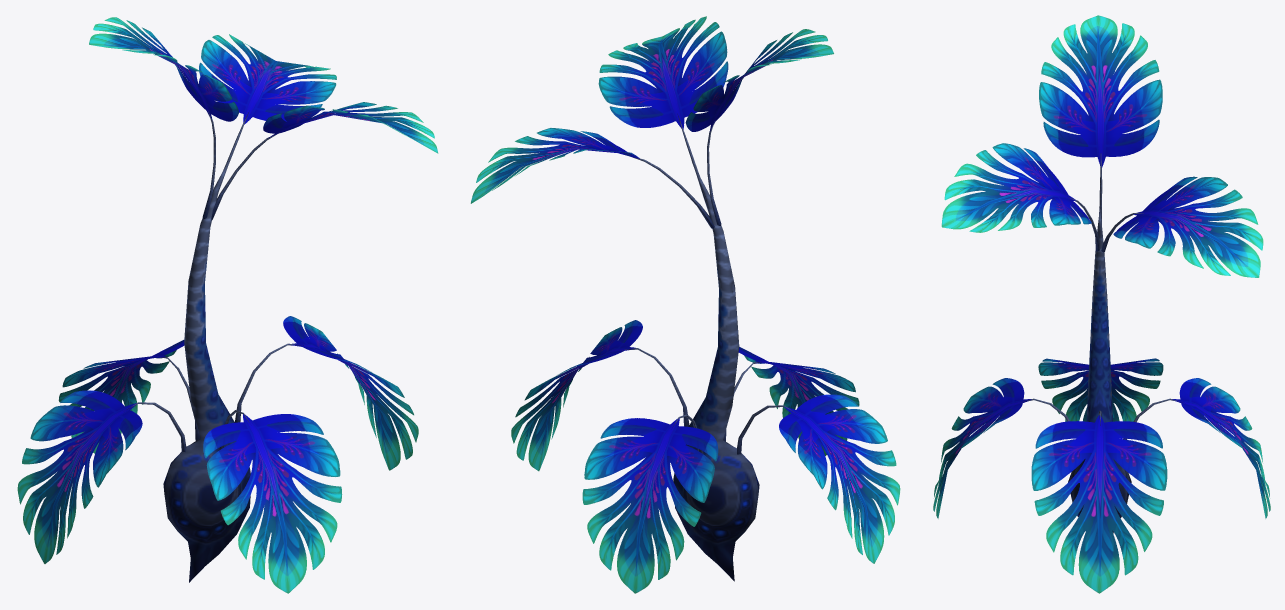
Rendered from Blue_Tree_03c.FBX.
The picture shows the model from 3 angles, left to right: view 1: azimuth 30°, elevation 25°; view 2: azimuth 150°, elevation 25°; view 3: azimuth 270°, elevation 25°; orthographic projection. The views are drawn at different scales.
Visible parts, largest first — view 1: Blue_Tree_03c; view 2: Blue_Tree_03c; view 3: Blue_Tree_03c.
Boxes of the visible parts, box(x1,y1,x2,y2) form: Blue_Tree_03c: box(17, 17, 438, 593); Blue_Tree_03c: box(470, 16, 900, 593); Blue_Tree_03c: box(933, 15, 1270, 593).
Bounding box in the file's own units: 163 × 252 × 153.
